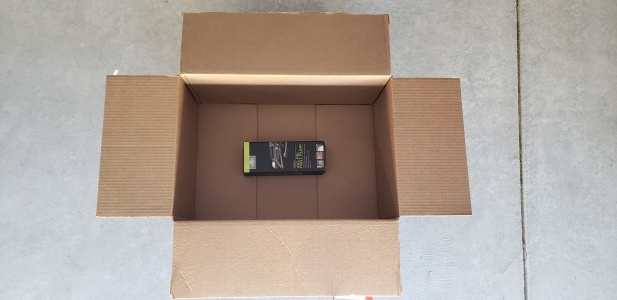innerbox: (178, 77, 393, 223)
outerbox: (101, 11, 474, 298)
product: (241, 138, 329, 178)
